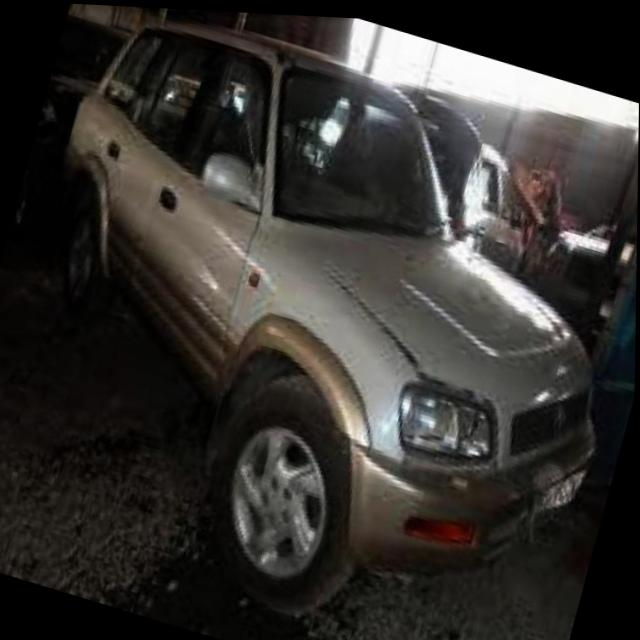Car-Damage: (485, 449, 567, 562)
